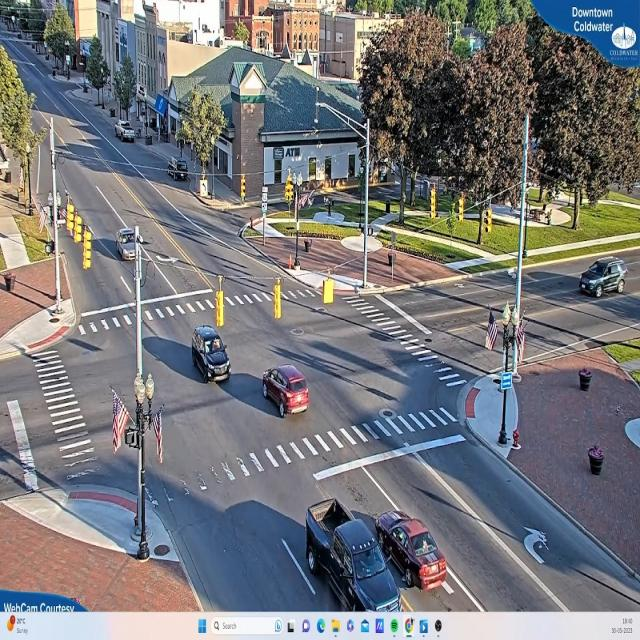car: (306, 500, 412, 610), (376, 512, 449, 596), (261, 366, 311, 419), (190, 325, 230, 380), (577, 260, 626, 300), (116, 123, 136, 143)
